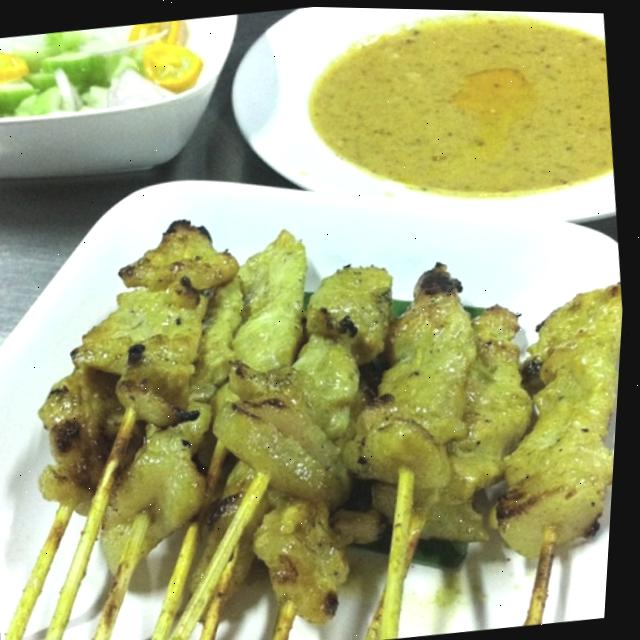牛肉菜式: (0, 213, 630, 640)
